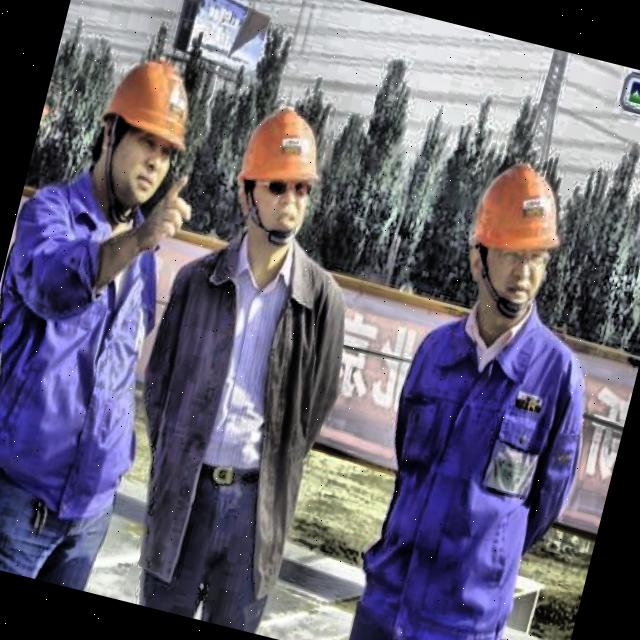helmet: (440, 132, 588, 338), (72, 28, 218, 236), (214, 85, 347, 266)
